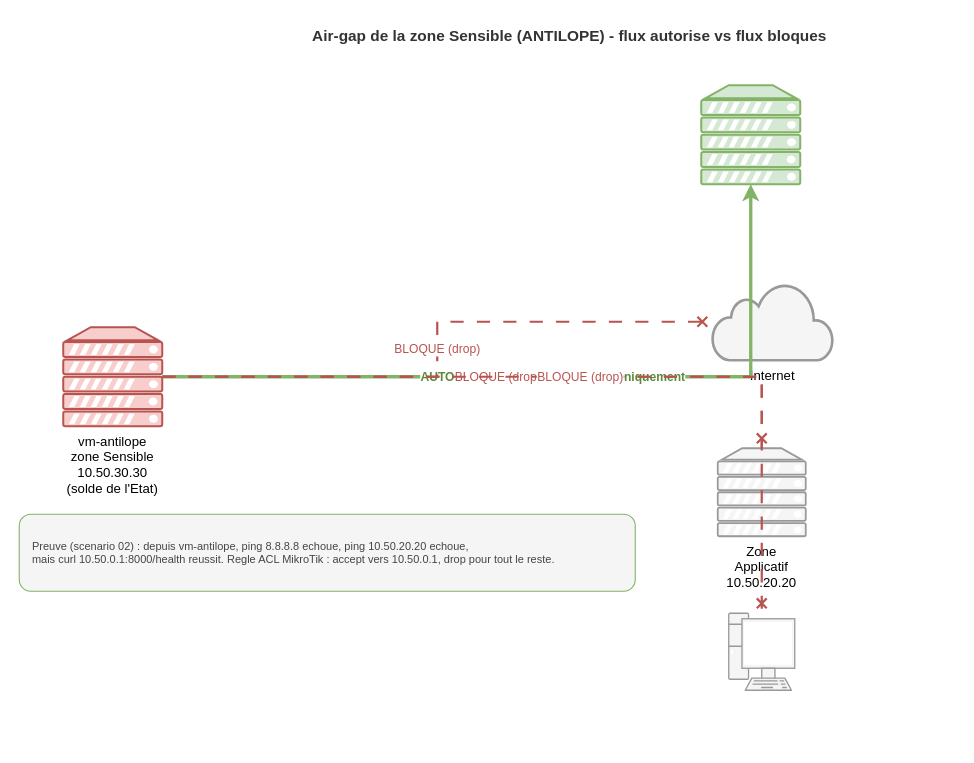
This 974x763 diagram has some shape labels left out. Here are the shapes that lost their labels. From the top down, the centre of each, then its label:
At [750,134]: "Coeur SOC 10.50.0.1 ingestion telemetrie".
At [761,651]: "Zone Admin 10.50.40.40".
